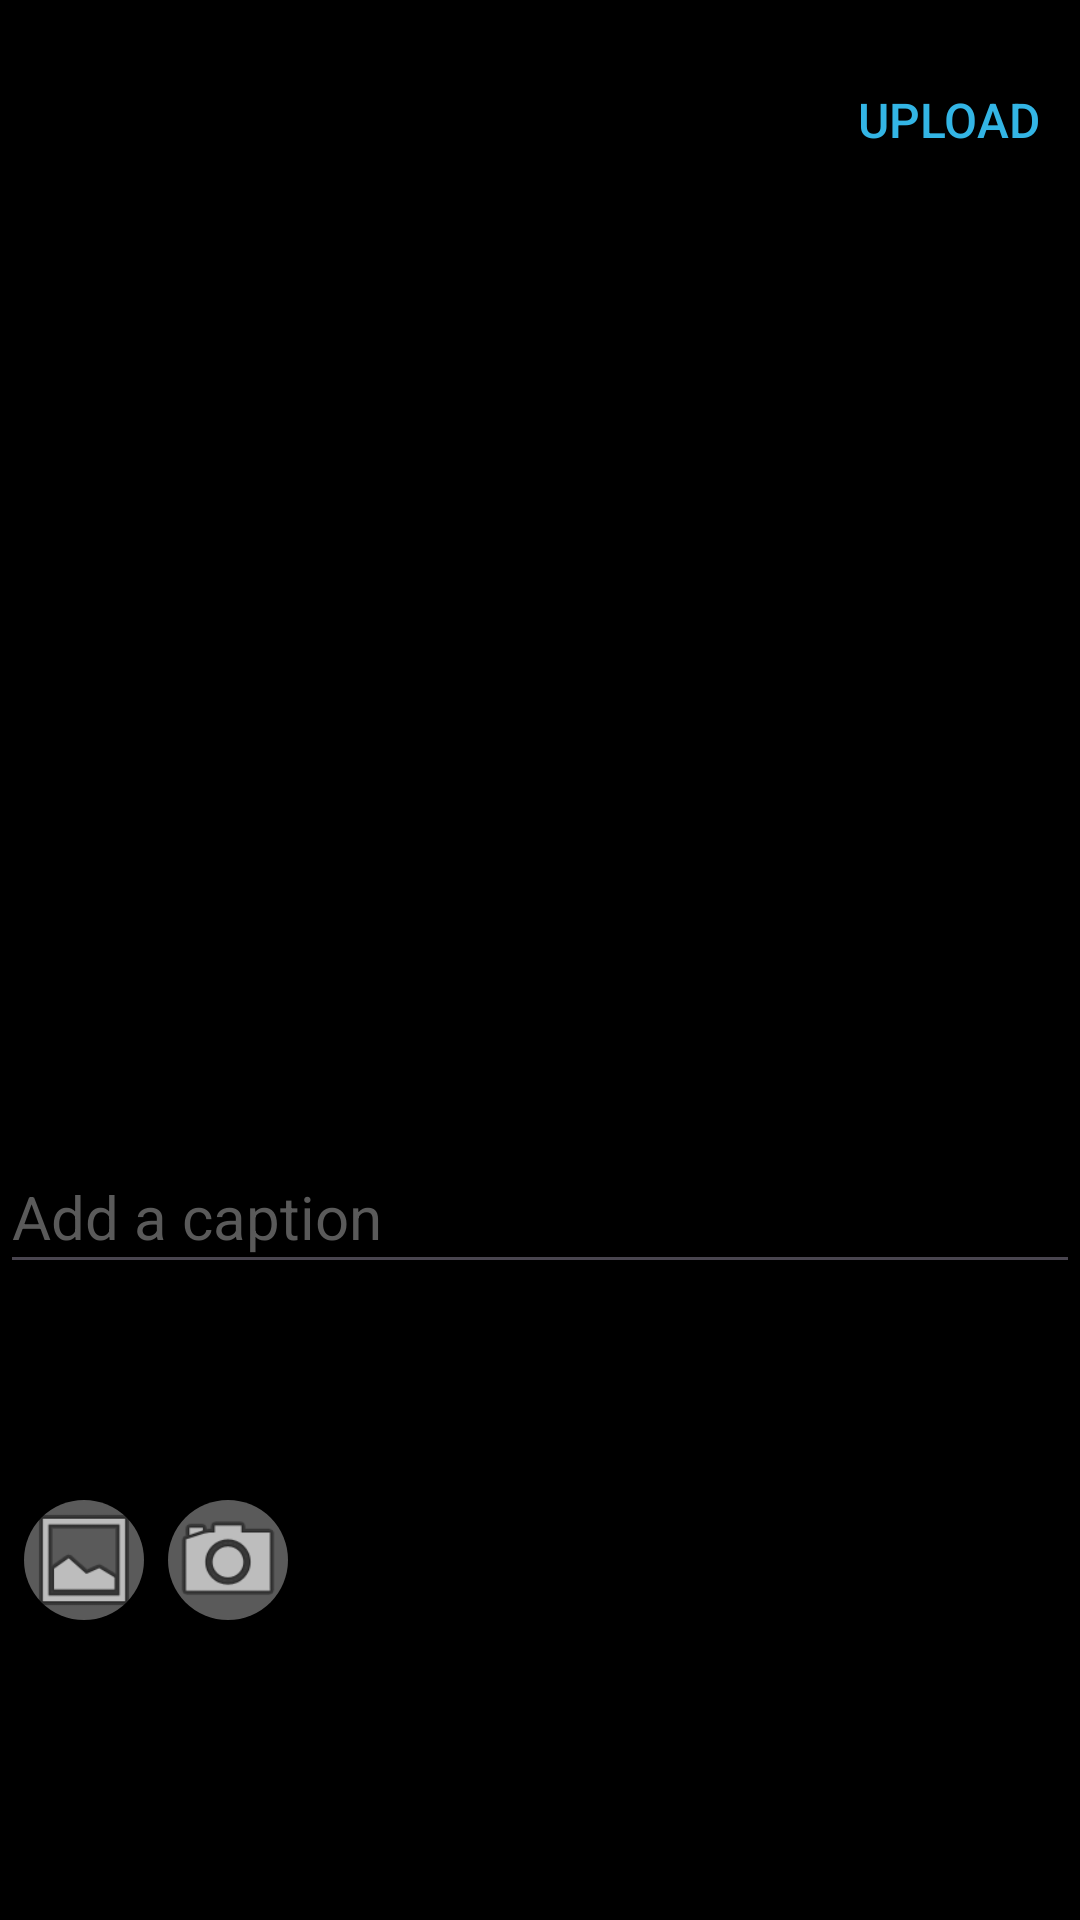

Screen size 1080 × 1920. Icon name, then its box in pixels as (x1, y1, x2, y2):
camera: (168, 1500, 288, 1620)
gallery: (24, 1500, 144, 1620)
